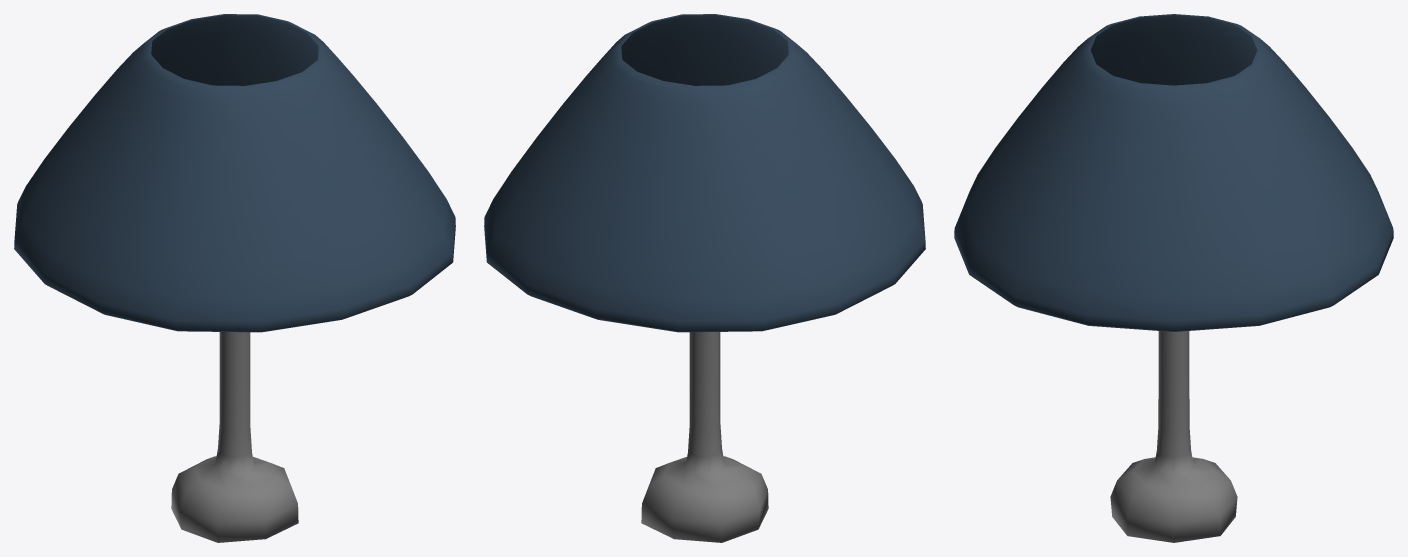
The model's file is PROJECT DREAM - Bedroom - Lamp.fbx.
3 views of the same model, side by side, from view 1: azimuth 30°, elevation 25°; view 2: azimuth 150°, elevation 25°; view 3: azimuth 270°, elevation 25° (orthographic).
Parts seen in each view (by area): view 1: Bedroom - Lamp; view 2: Bedroom - Lamp; view 3: Bedroom - Lamp.
Boxes of the visible parts, x1=… form: Bedroom - Lamp: x1=14, y1=14, x2=455, y2=542; Bedroom - Lamp: x1=484, y1=14, x2=925, y2=542; Bedroom - Lamp: x1=954, y1=14, x2=1393, y2=542.
Bounding box in the file's own units: 45.95 × 53.92 × 45.95.
